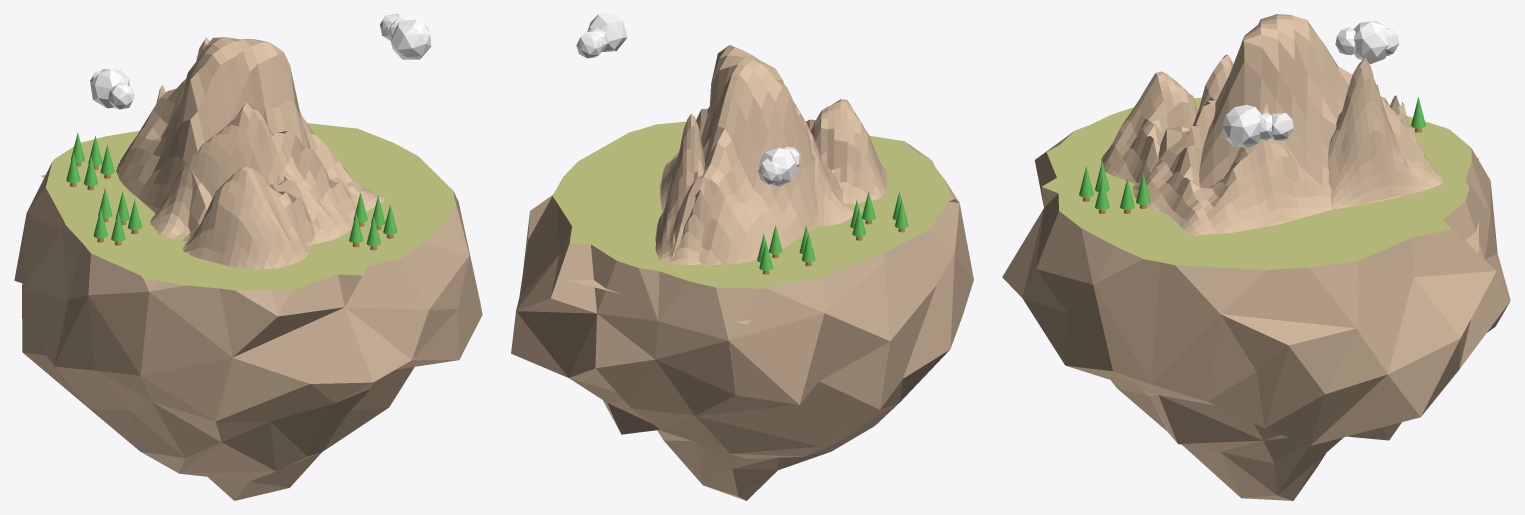
The model's file is Mountain.fbx.
3 renders of one model, left to right at view 1: azimuth 30°, elevation 25°; view 2: azimuth 150°, elevation 25°; view 3: azimuth 270°, elevation 25°, orthographic. The views are drawn at different scales.
Visible parts, largest first — view 1: Sphere, Cube, Landscape_4, Landscape_2, Landscape_3, moon_thingy_10, moon_thingy_7, moon_thingy_5; view 2: Sphere, Cube, Landscape_4, Landscape_2, Landscape_1, moon_thingy_10, moon_thingy_7, Landscape_3, moon_thingy_9; view 3: Sphere, Cube, Landscape_4, Landscape_3, Landscape_1, Landscape_2, moon_thingy_10, moon_thingy_7.
Boxes of the visible parts, <box> form: Sphere: <box>14,162,482,500</box>; Cube: <box>45,123,456,290</box>; Landscape_4: <box>41,37,324,232</box>; Landscape_2: <box>150,102,314,269</box>; Landscape_3: <box>273,112,385,243</box>; moon_thingy_10: <box>391,19,431,59</box>; moon_thingy_7: <box>90,69,129,108</box>; moon_thingy_5: <box>108,82,134,109</box>; Sphere: <box>511,142,973,500</box>; Cube: <box>552,121,954,288</box>; Landscape_4: <box>566,45,842,324</box>; Landscape_2: <box>785,86,887,226</box>; Landscape_1: <box>655,114,716,264</box>; moon_thingy_10: <box>587,14,627,51</box>; moon_thingy_7: <box>758,147,798,186</box>; Landscape_3: <box>659,107,709,211</box>; moon_thingy_9: <box>576,31,603,58</box>; Sphere: <box>1002,131,1510,500</box>; Cube: <box>1042,97,1471,269</box>; Landscape_4: <box>1145,14,1478,252</box>; Landscape_3: <box>1132,97,1333,235</box>; Landscape_1: <box>1328,57,1442,208</box>; Landscape_2: <box>1101,54,1233,183</box>; moon_thingy_10: <box>1222,105,1261,147</box>; moon_thingy_7: <box>1354,21,1388,64</box>.
Size of the model in its own units: 500 by 530 by 511.
